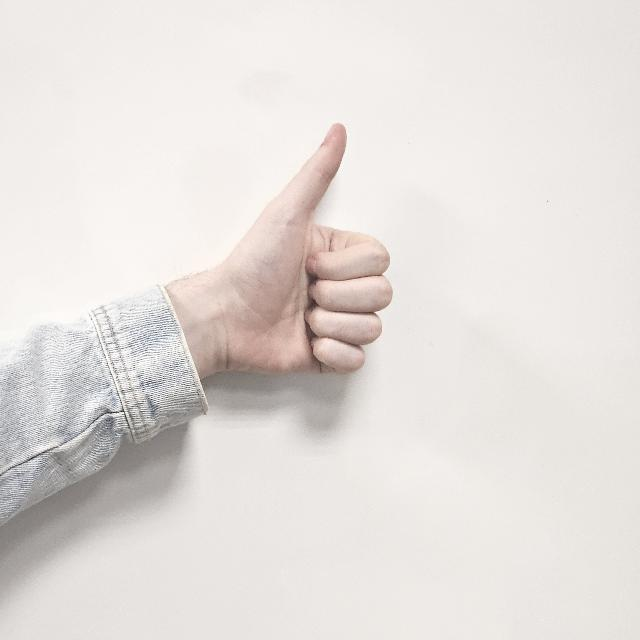Start: (195, 120, 392, 390)
